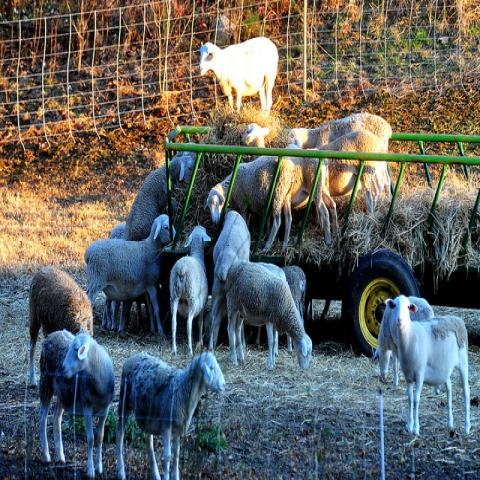truck: (155, 124, 479, 363)
